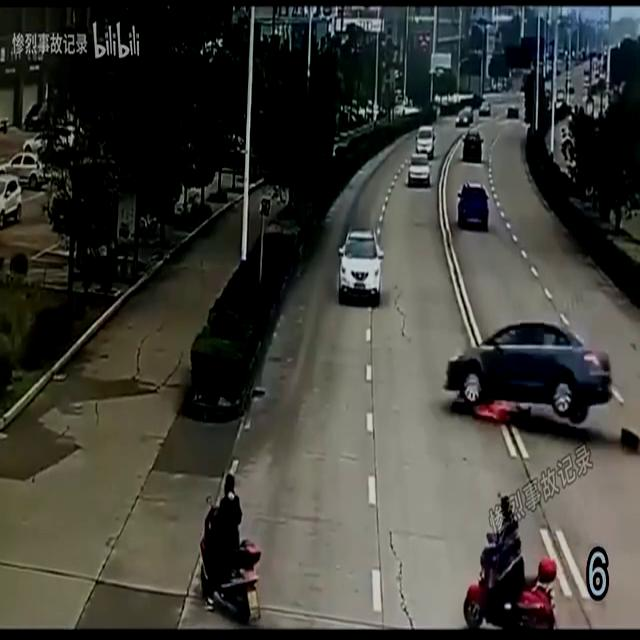accident: (444, 316, 640, 454)
non-accident: (0, 125, 80, 227), (404, 125, 438, 189), (452, 99, 492, 127)
